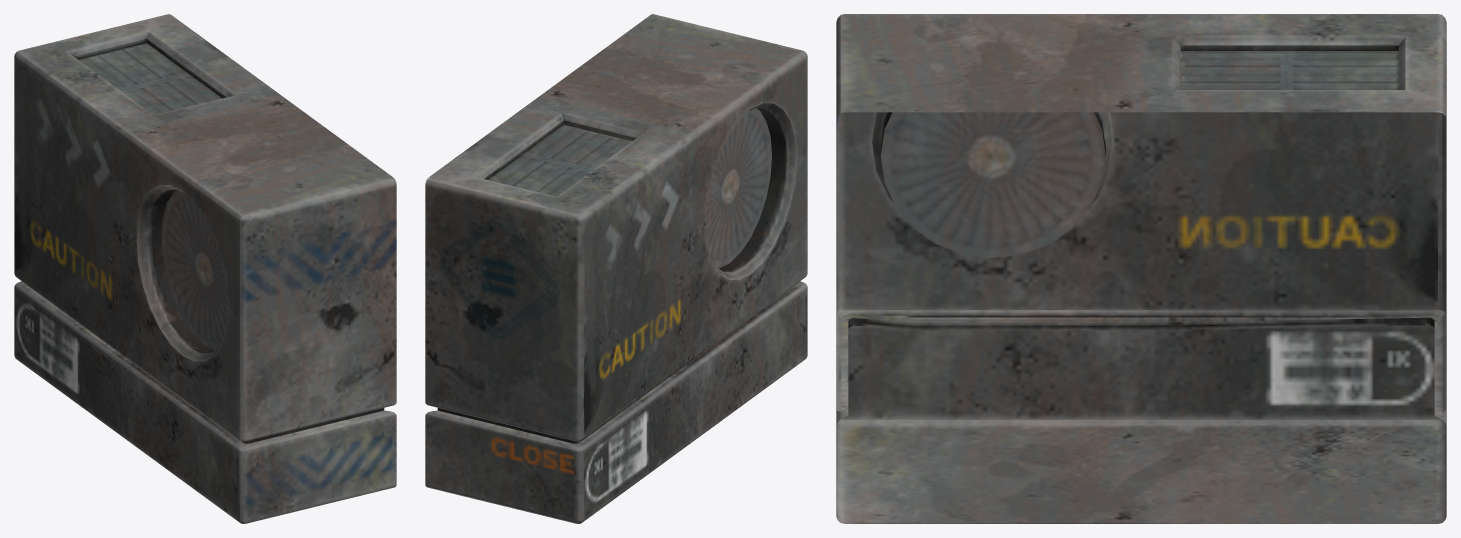
File: SM_Industrial_Props_LP_Air_Con.fbx
3 views of the same model, side by side, from view 1: azimuth 30°, elevation 25°; view 2: azimuth 150°, elevation 25°; view 3: azimuth 270°, elevation 25° (orthographic). The views are drawn at different scales.
Parts seen in each view (by area): view 1: SM_Industrial_Props_LP_Air_Con_LOD0; view 2: SM_Industrial_Props_LP_Air_Con_LOD0; view 3: SM_Industrial_Props_LP_Air_Con_LOD0.
Boxes of the visible parts, bbox=[...] form: SM_Industrial_Props_LP_Air_Con_LOD0: bbox=[14, 14, 396, 523]; SM_Industrial_Props_LP_Air_Con_LOD0: bbox=[425, 14, 807, 523]; SM_Industrial_Props_LP_Air_Con_LOD0: bbox=[836, 14, 1446, 523].
Bounding box in the file's own units: 41.68 × 106 × 79.21.
1 material, 1 textured.
